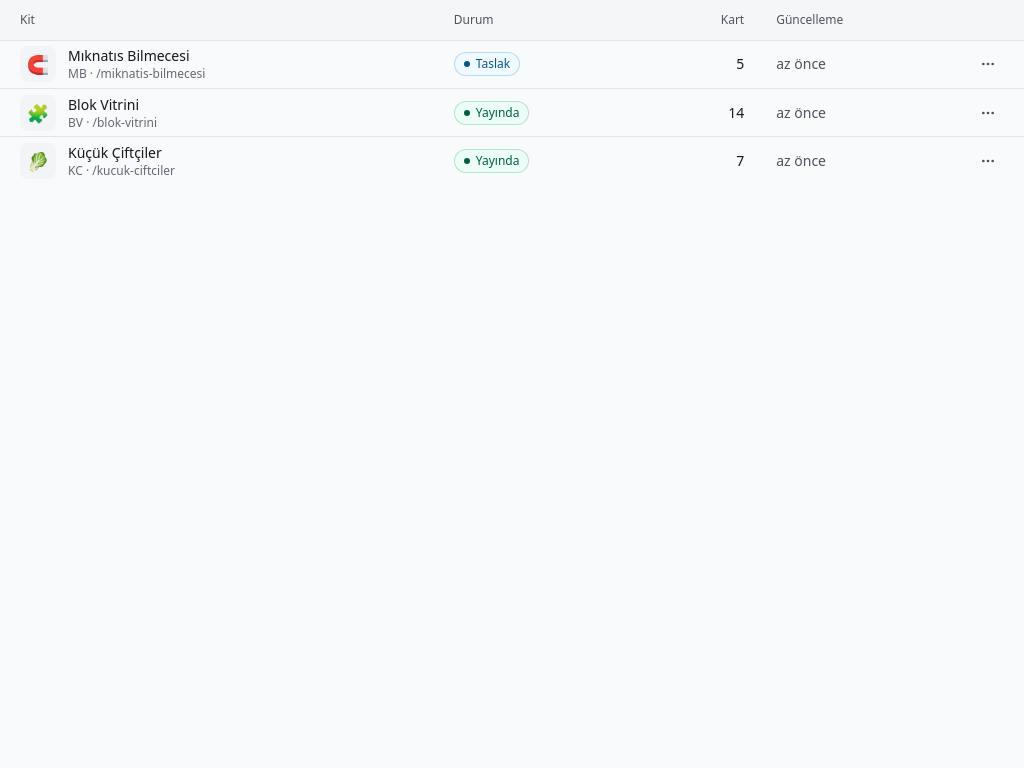
it: KitsTable › deletes a never-published kit after confirmation
This screenshot has width=1024, height=768.
Click the button named "Mıknatıs Bilmecesi için işlemler" at (988, 64), box x1=972 y1=48 x2=1004 y2=80
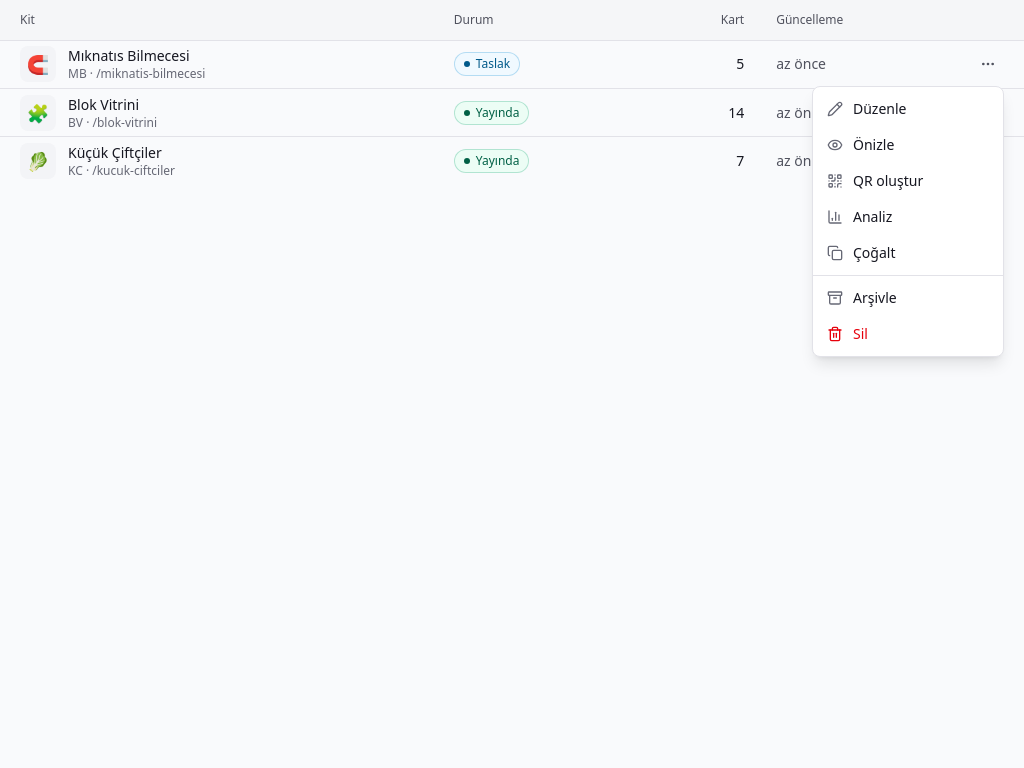
Click the menu item "Sil" at (835, 334), box x1=827 y1=324 x2=868 y2=343
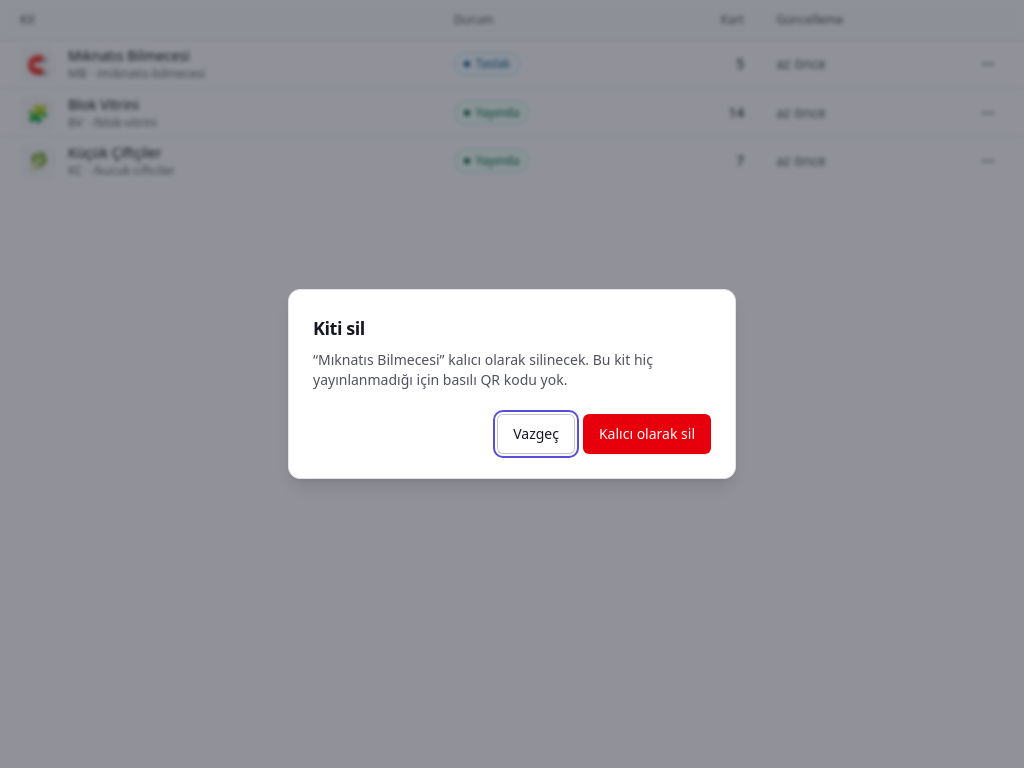
Click the button "Kalıcı olarak sil" at (647, 434), box x1=583 y1=414 x2=711 y2=454
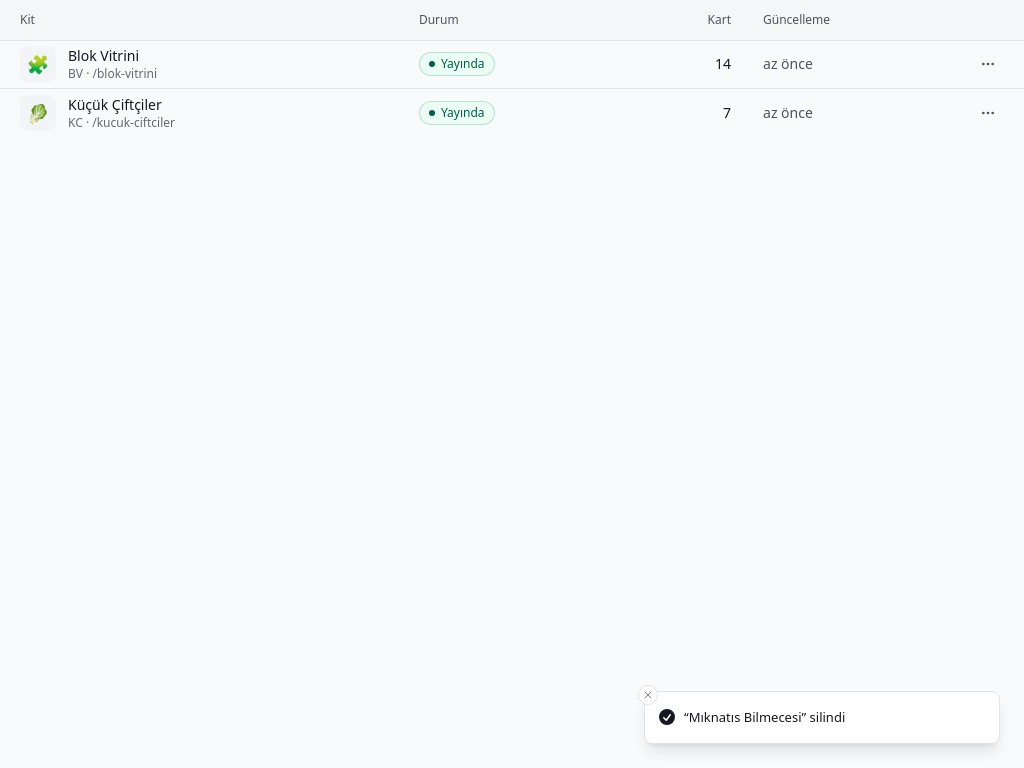
Expected: the text "“Mıknatıs Bilmecesi” silindi" is shown, x1=684 y1=708 x2=845 y2=727
